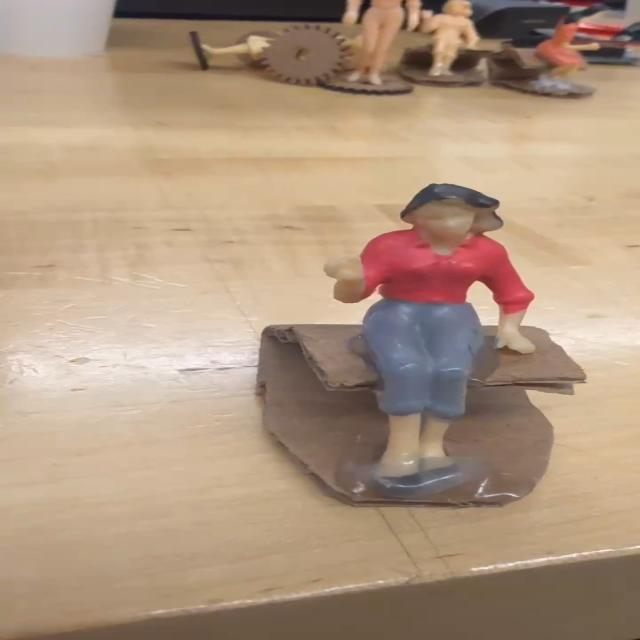Authorized: (291, 171, 538, 516)
